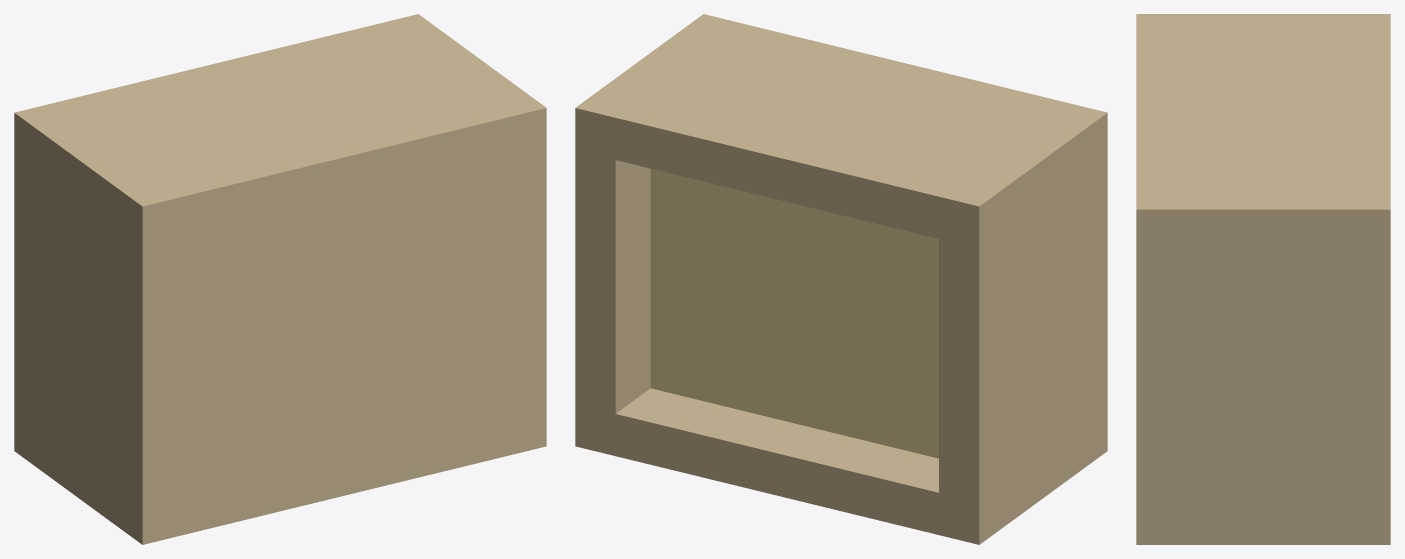
The model's file is trough_held.gltf.
3 views of the same model, side by side, from view 1: azimuth 30°, elevation 25°; view 2: azimuth 150°, elevation 25°; view 3: azimuth 270°, elevation 25° (orthographic).
Parts seen in each view (by area): view 1: animals_trough_held; view 2: animals_trough_held; view 3: animals_trough_held.
Boxes of the visible parts, box(x1,y1,x2,y2) form: animals_trough_held: box(14, 14, 546, 544); animals_trough_held: box(575, 14, 1107, 544); animals_trough_held: box(1136, 14, 1390, 544).
Bounding box in the file's own units: 0.16 × 0.128 × 0.088.
